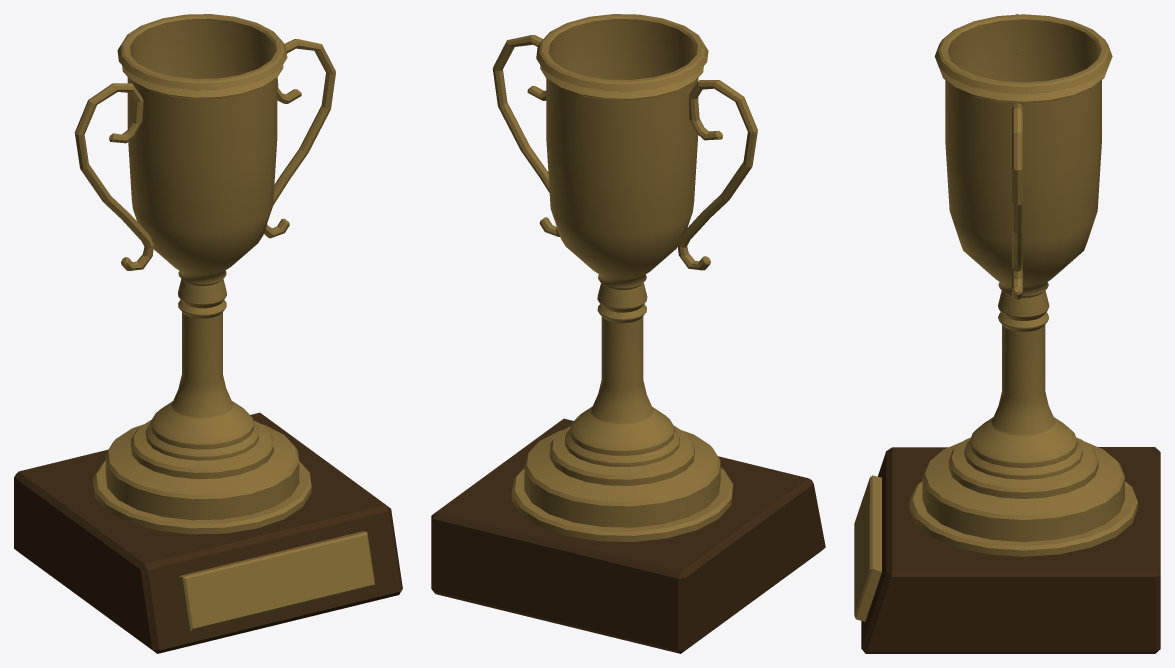
Rendered from SoccerTrophy2.fbx.
3 views of the same model, side by side, from view 1: azimuth 30°, elevation 25°; view 2: azimuth 150°, elevation 25°; view 3: azimuth 270°, elevation 25° (orthographic). The views are drawn at different scales.
Visible parts, largest first — view 1: SoccerTrophy_2; view 2: SoccerTrophy_2; view 3: SoccerTrophy_2.
Boxes of the visible parts, box(x1,y1,x2,y2) form: SoccerTrophy_2: box(14, 14, 402, 653); SoccerTrophy_2: box(431, 14, 825, 653); SoccerTrophy_2: box(854, 14, 1160, 653).
Bounding box in the file's own units: 30.82 × 59 × 30.15.
